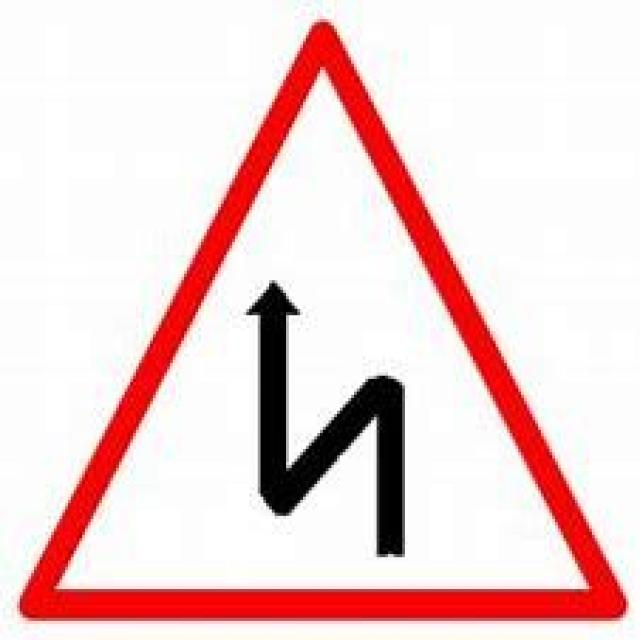LEFT_REVERSE_BEND: (19, 21, 626, 622)
